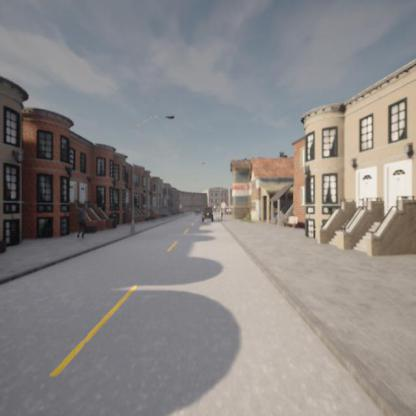person: (78, 207, 89, 239)
